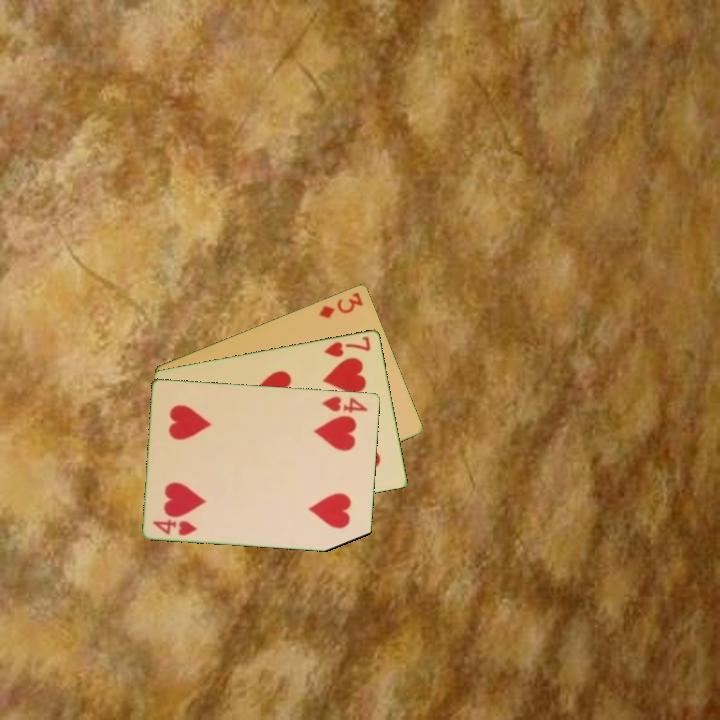3d: (315, 288, 367, 321)
4h: (319, 392, 371, 415), (149, 515, 200, 538)
7h: (321, 332, 374, 360)
